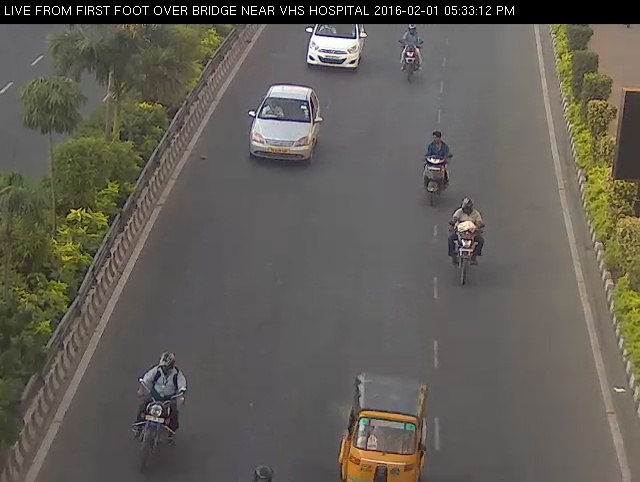Car: (333, 368, 437, 482), (237, 75, 330, 173), (292, 14, 376, 78)
Person: (125, 342, 189, 478), (406, 119, 459, 215), (442, 192, 489, 294), (388, 11, 434, 90), (241, 455, 284, 482)
